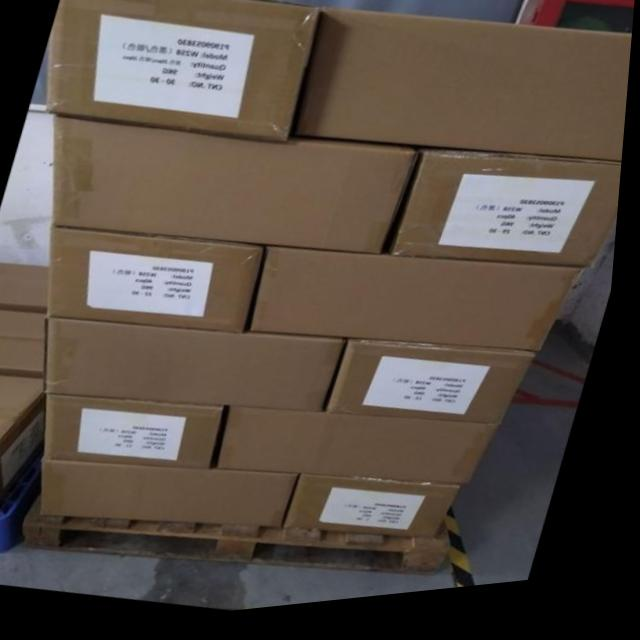box: (296, 17, 633, 176), (55, 117, 418, 260), (45, 0, 318, 146), (255, 253, 596, 364), (52, 319, 355, 419), (398, 153, 625, 280), (225, 412, 503, 497), (54, 227, 270, 334), (332, 347, 544, 439), (51, 461, 308, 533), (53, 399, 235, 473), (293, 479, 472, 550), (0, 371, 54, 513), (0, 309, 52, 377), (0, 262, 57, 313)
